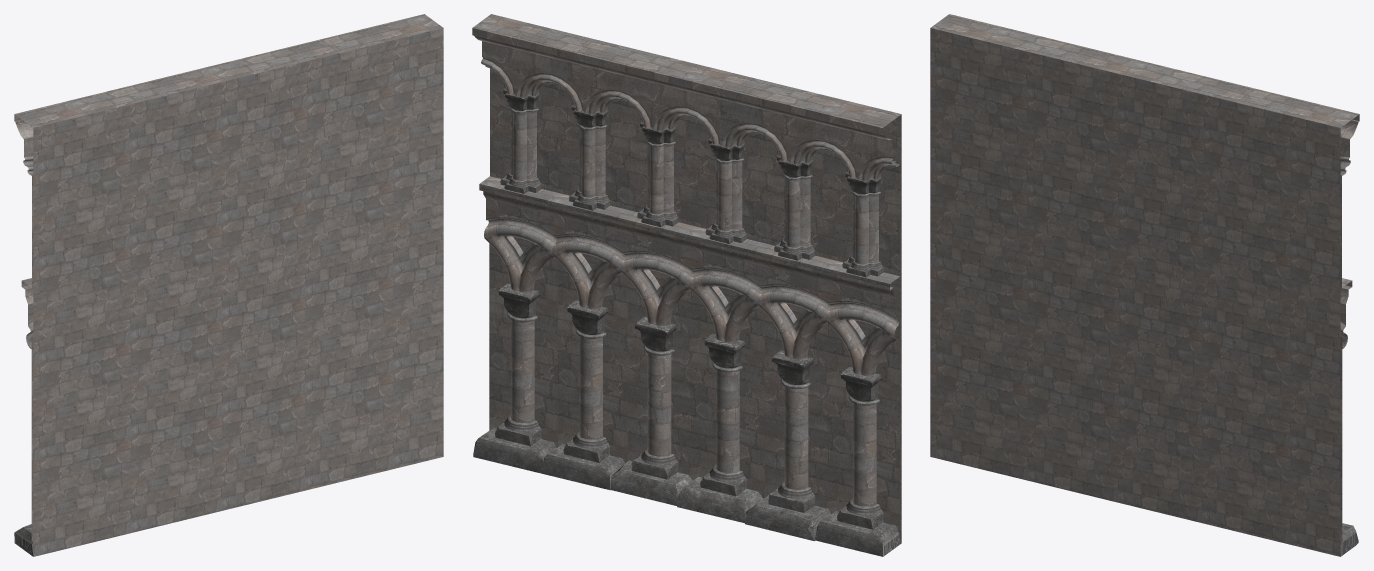
3 renders of one model, left to right at view 1: azimuth 30°, elevation 25°; view 2: azimuth 150°, elevation 25°; view 3: azimuth 330°, elevation 25°, orthographic.
Visible parts, largest first — view 1: SM_DungeonRoom_Wall_LOD0; view 2: SM_DungeonRoom_Wall_LOD0; view 3: SM_DungeonRoom_Wall_LOD0.
Boxes of the visible parts, bbox=[...] form: SM_DungeonRoom_Wall_LOD0: bbox=[14, 14, 443, 556]; SM_DungeonRoom_Wall_LOD0: bbox=[472, 14, 901, 556]; SM_DungeonRoom_Wall_LOD0: bbox=[930, 14, 1359, 556].
Size of the model in its own units: 6.01 by 6 by 0.5082.
Materials: 2 (2 with a texture image).
